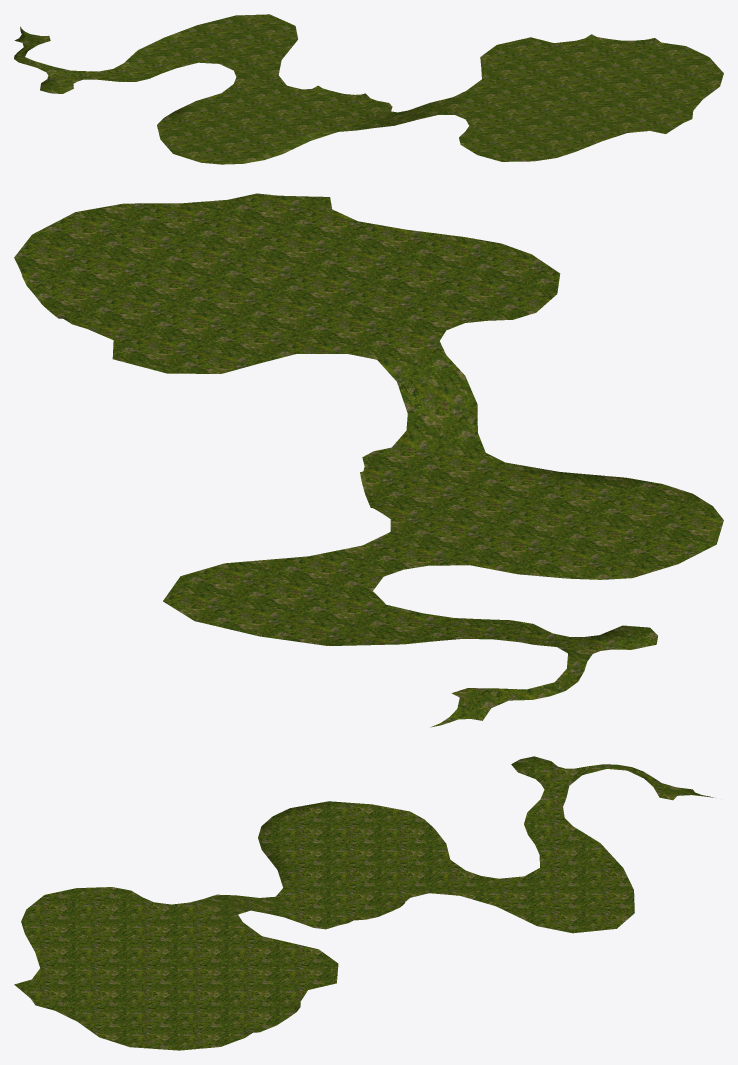
The model's file is OVERHILL_A_01_ARCH2.fbx.
3 renders of one model, top to bottom at view 1: azimuth 30°, elevation 25°; view 2: azimuth 150°, elevation 25°; view 3: azimuth 270°, elevation 25°, orthographic. The views are drawn at different scales.
Parts seen in each view (by area): view 1: OVERHILL_A_01_ARCH2; view 2: OVERHILL_A_01_ARCH2; view 3: OVERHILL_A_01_ARCH2.
Part boxes in pixels (bbox=[...]): OVERHILL_A_01_ARCH2: bbox=[14, 14, 723, 164]; OVERHILL_A_01_ARCH2: bbox=[14, 193, 723, 727]; OVERHILL_A_01_ARCH2: bbox=[14, 756, 713, 1050].
Size of the model in its own units: 287250 by 16178 by 278339.
1 material, 1 textured.
